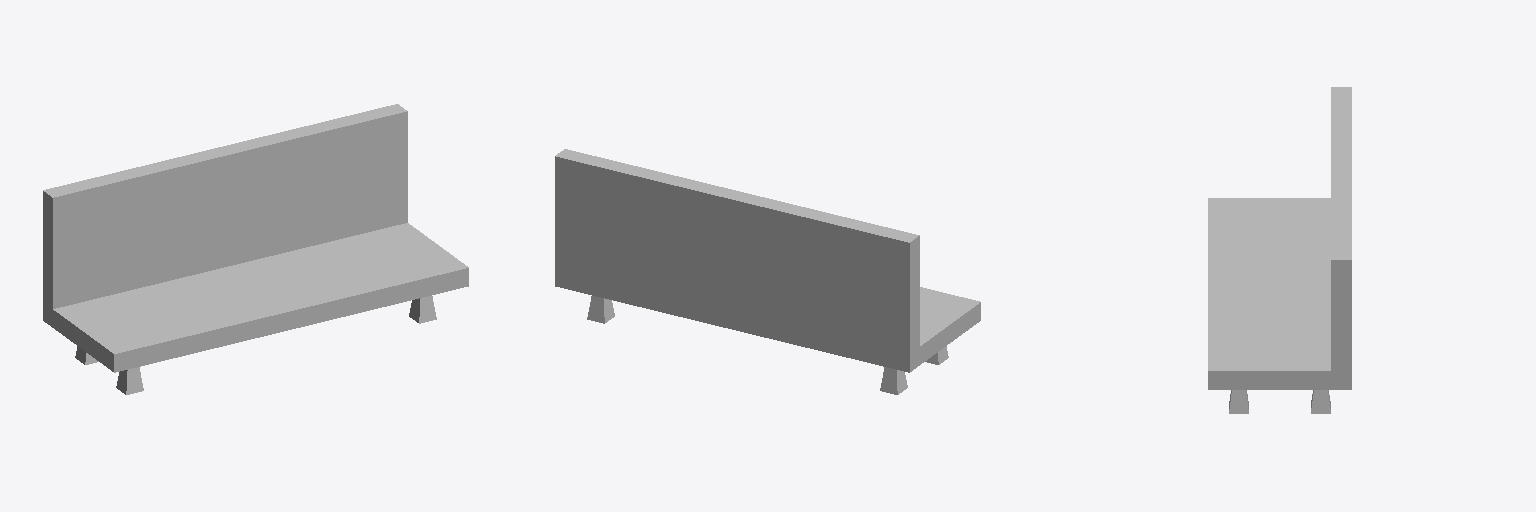
File: Props_Bench_2.obj
3 renders of one model, left to right at view 1: azimuth 30°, elevation 25°; view 2: azimuth 150°, elevation 25°; view 3: azimuth 270°, elevation 25°, orthographic.
Visible parts, largest first — view 1: Props_Bench_2; view 2: Props_Bench_2; view 3: Props_Bench_2.
Part boxes in pixels (x1,y1,x2,y2): Props_Bench_2: (43, 104, 468, 394); Props_Bench_2: (555, 149, 980, 394); Props_Bench_2: (1208, 87, 1351, 413).
Bounding box in the file's own units: 157 × 70.09 × 55.12.